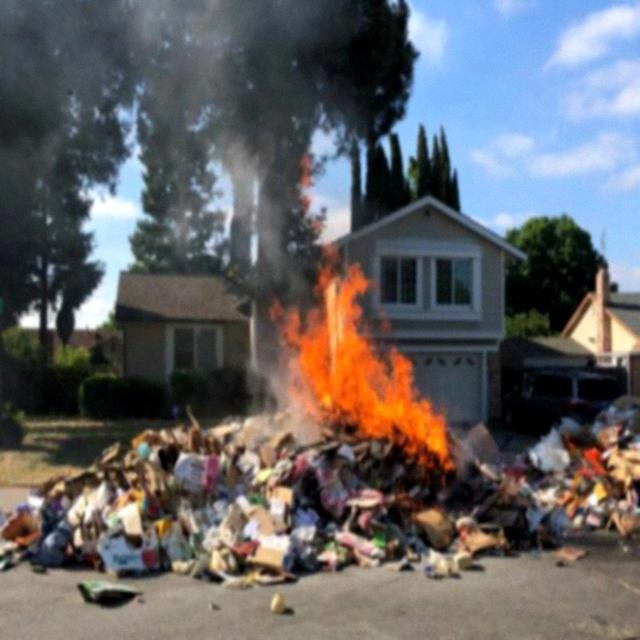Fire: (264, 257, 448, 472)
Smoke: (0, 0, 304, 276)
